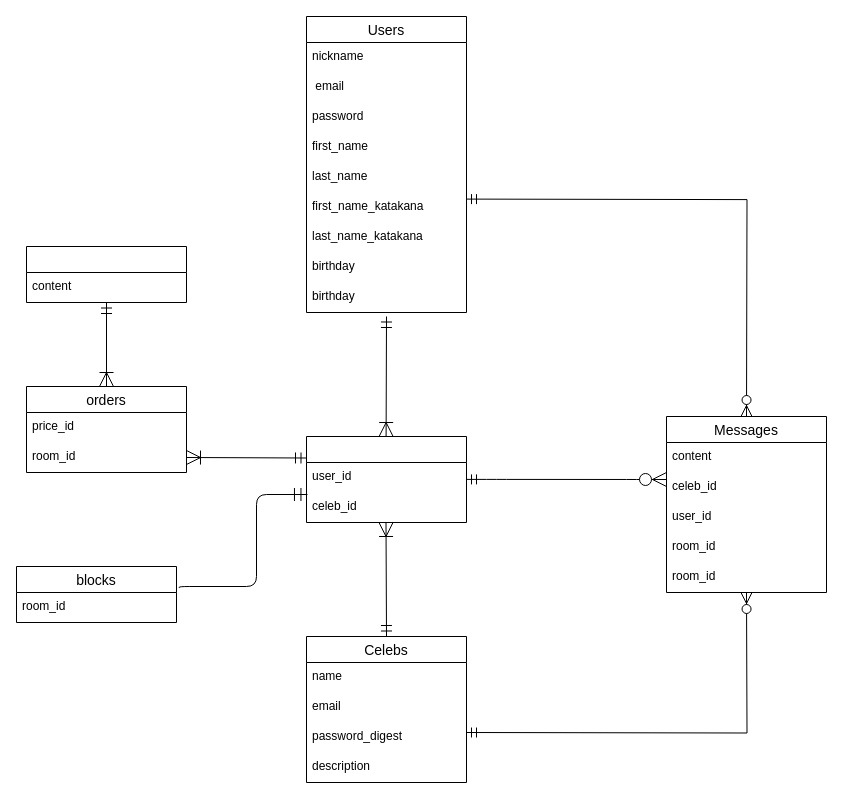
This 843x799 diagram has some shape labels left out. Here are the shapes that lost their labels. From the top down, the box of each, then its label:
(26, 246, 186, 302): prices
(306, 436, 466, 522): Rooms
